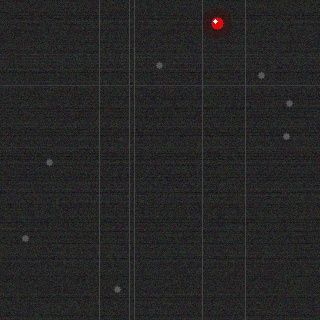red_fault: (209, 15, 225, 31)
